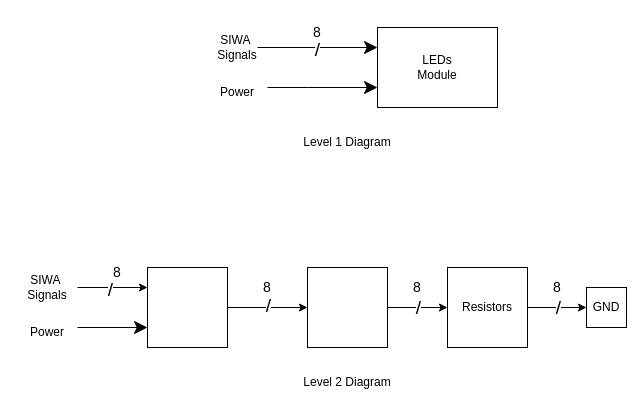
This 644x414 diagram has some shape labels left out. The centre of each missing label's shape, as x and y in pixels:
Buffers: (x=187, y=307)
LEDs: (x=347, y=307)
